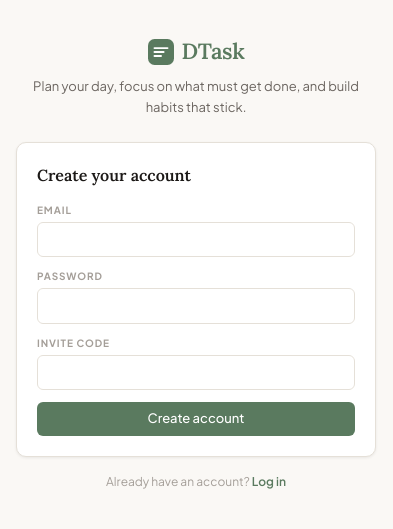
WelcomeView › shows the duplicate-email detail on a 409
In the field labelled "Email": (196, 240) [37,222,355,257], type "new@example.com"
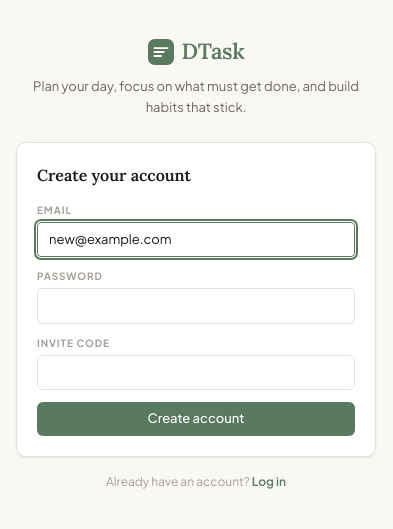
In the password field labelled "Password": (196, 306) [37,288,355,324], type "password123"
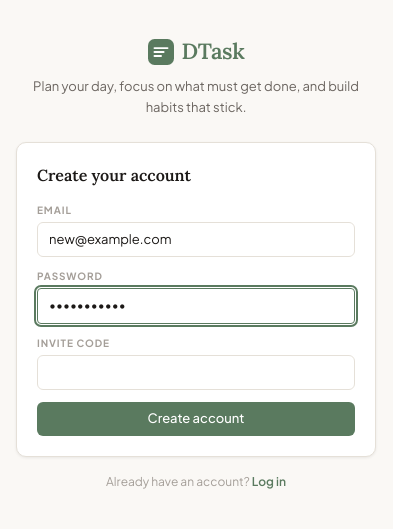
In the field labelled "Invite code": (196, 373) [37,355,355,390], type "secret"
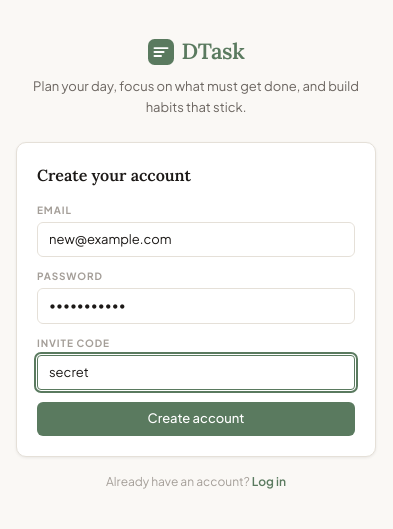
Click the button "Create account": click(196, 419) [37,402,355,436]
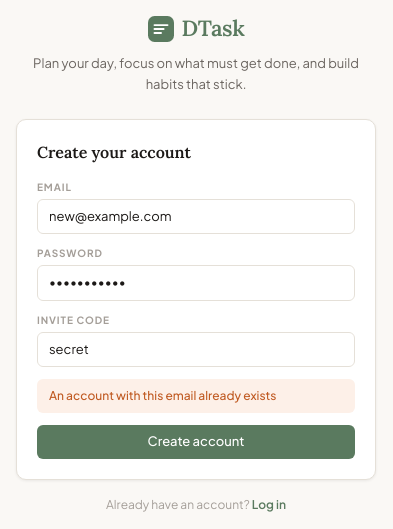
Expected: the text "An account with this email already exists" is shown, [37,379,355,413]
